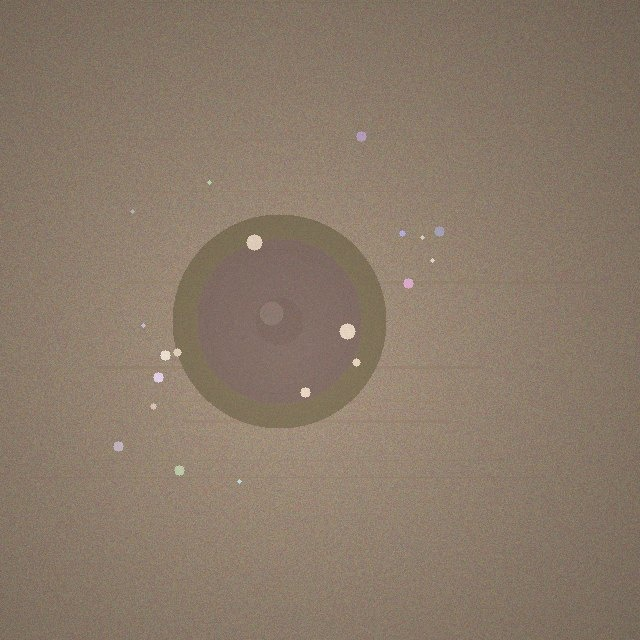overburn: (172, 214, 386, 428)
